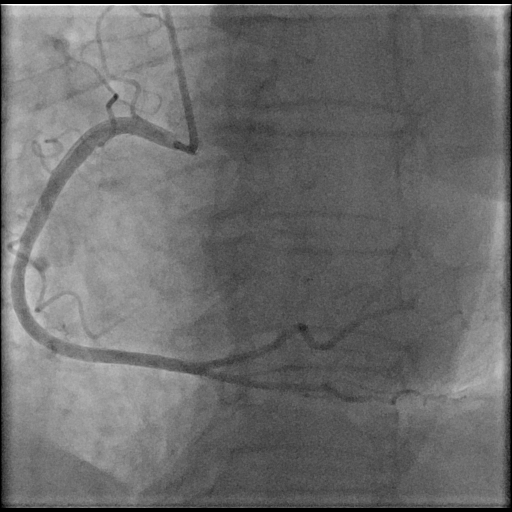RCA: (12, 118, 379, 392)
catherter: (162, 7, 198, 145)
